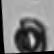correct: (9, 9, 52, 53)
